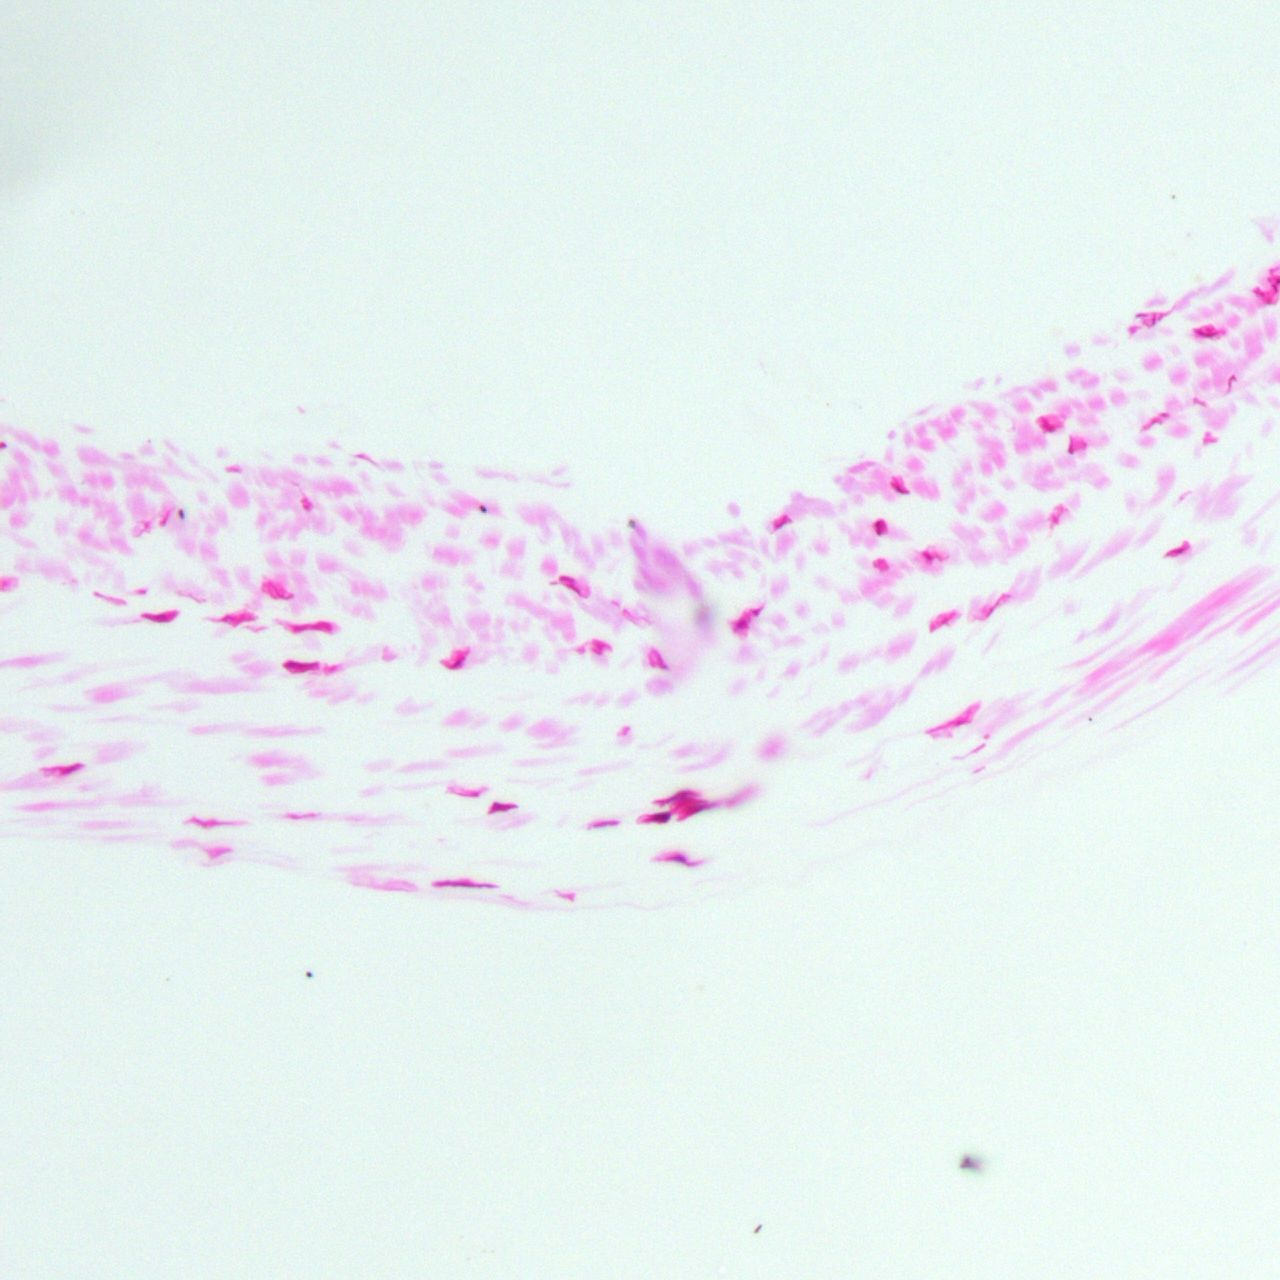dust: (953, 1146, 974, 1177), (751, 1223, 764, 1235), (629, 519, 636, 529), (305, 971, 314, 978), (481, 505, 488, 513), (1169, 193, 1175, 200), (1088, 717, 1091, 721)
nucleus-FG: (654, 785, 696, 806), (926, 717, 969, 734), (91, 591, 128, 608), (431, 879, 498, 888), (982, 592, 1005, 620), (927, 612, 956, 633), (290, 621, 335, 633), (186, 818, 240, 828), (1164, 542, 1191, 560), (222, 613, 256, 627), (59, 760, 87, 776), (282, 661, 321, 673), (139, 611, 177, 622), (678, 805, 704, 821), (486, 802, 519, 813), (639, 811, 670, 823), (1224, 374, 1238, 395), (1142, 418, 1163, 431), (591, 819, 618, 829), (591, 638, 610, 651), (772, 517, 789, 530), (1193, 329, 1218, 338), (452, 791, 481, 798), (565, 583, 581, 594), (731, 619, 748, 631), (891, 484, 908, 495), (1191, 396, 1208, 407), (448, 659, 463, 670), (157, 512, 169, 527), (666, 855, 687, 863), (654, 654, 665, 670), (1250, 287, 1262, 297), (558, 576, 574, 583), (1067, 438, 1074, 455), (874, 520, 881, 535), (922, 551, 932, 560), (177, 509, 185, 518), (592, 647, 601, 655), (750, 610, 761, 617), (135, 588, 147, 594), (1044, 427, 1055, 433), (1272, 285, 1278, 295), (1135, 313, 1148, 318), (1151, 312, 1155, 326), (1266, 297, 1272, 304), (1159, 413, 1167, 416)
